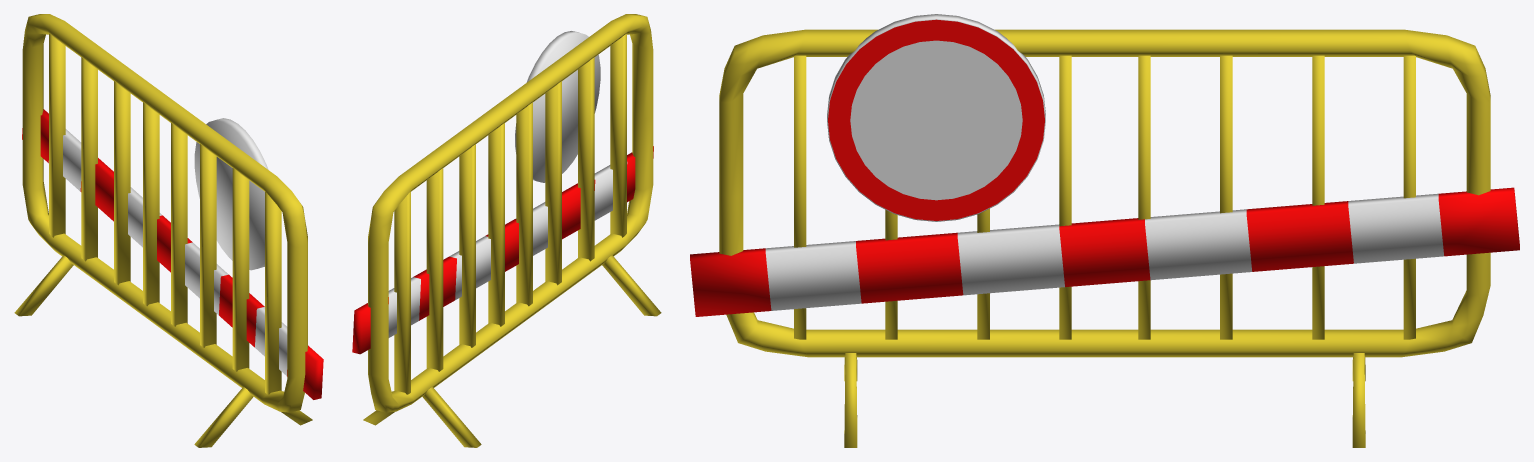
Rendered from simpleObstacle.fbx.
The picture shows the model from 3 angles, left to right: view 1: azimuth 30°, elevation 25°; view 2: azimuth 150°, elevation 25°; view 3: azimuth 270°, elevation 25°; orthographic projection. The views are drawn at different scales.
Parts seen in each view (by area): view 1: Cube; view 2: Cube; view 3: Cube.
Part boxes in pixels (x1=…): Cube: x1=14, y1=14, x2=323, y2=447; Cube: x1=352, y1=14, x2=661, y2=447; Cube: x1=690, y1=14, x2=1519, y2=447.
Size of the model in its own units: 45.37 by 108 by 202.
